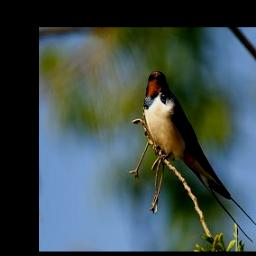Swallow: (145, 69, 256, 243)
